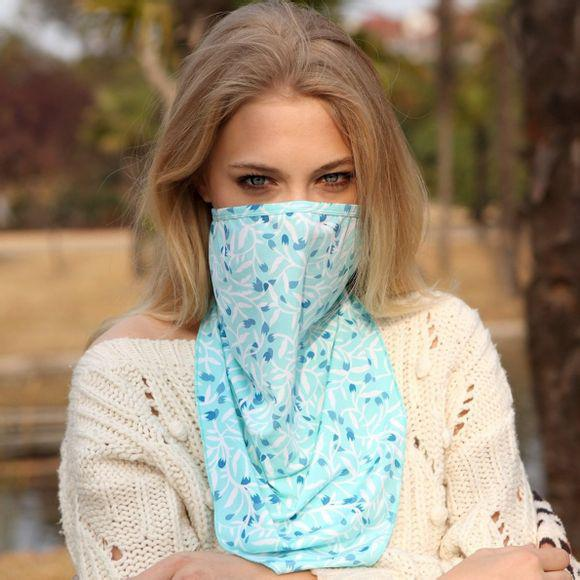OK: (197, 140, 380, 312)
